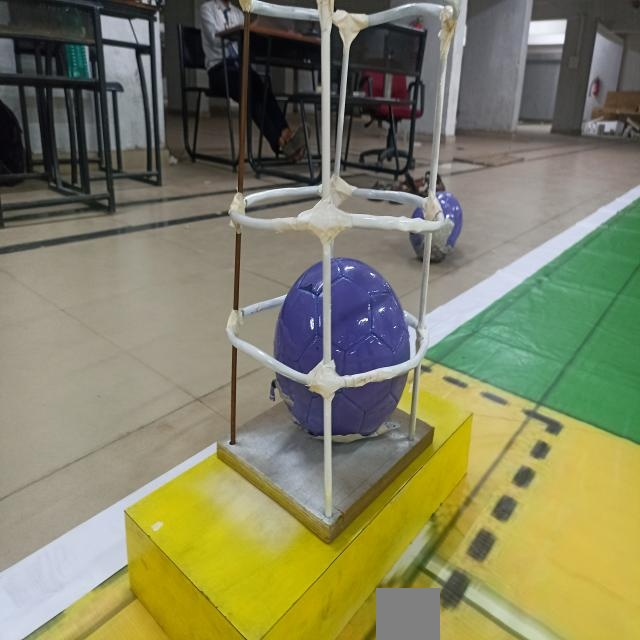purple_ball: (278, 255, 412, 450), (410, 189, 462, 268)
silo: (205, 0, 469, 534)
